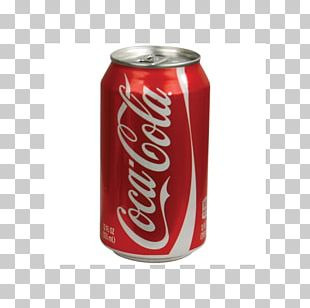coke: (100, 46, 207, 261)
